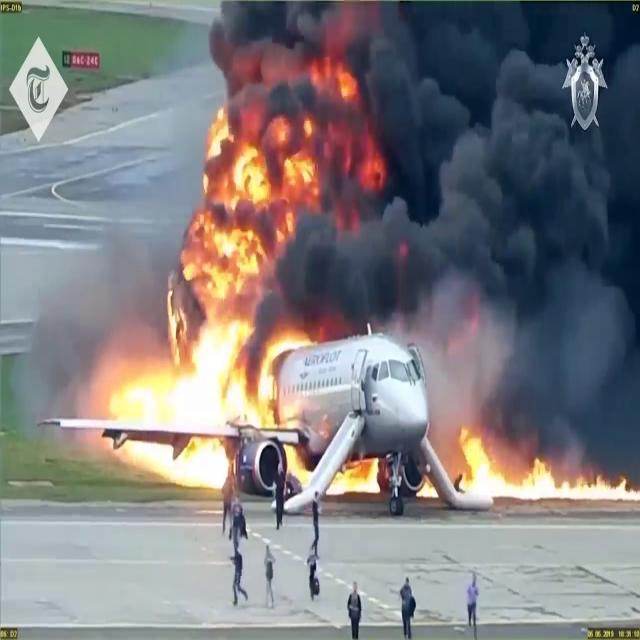Fire: (121, 332, 323, 474), (439, 426, 637, 508), (329, 452, 386, 499)
Smoke: (187, 0, 638, 320), (32, 163, 192, 417)
